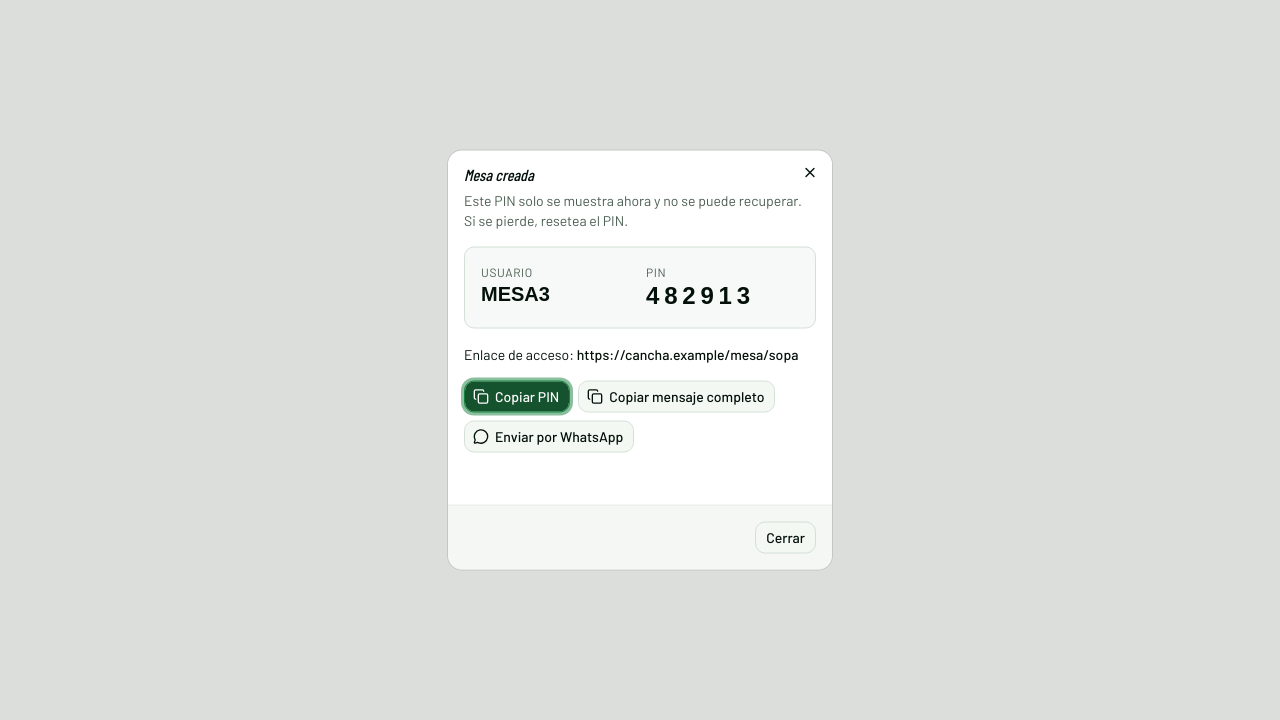
Test case: PinDialog › si no puede copiar, lo dice
The width and height of the screenshot is (1280, 720).
Step 1. Click the button "Copiar PIN" → point(517, 396), box [464,380,570,412]
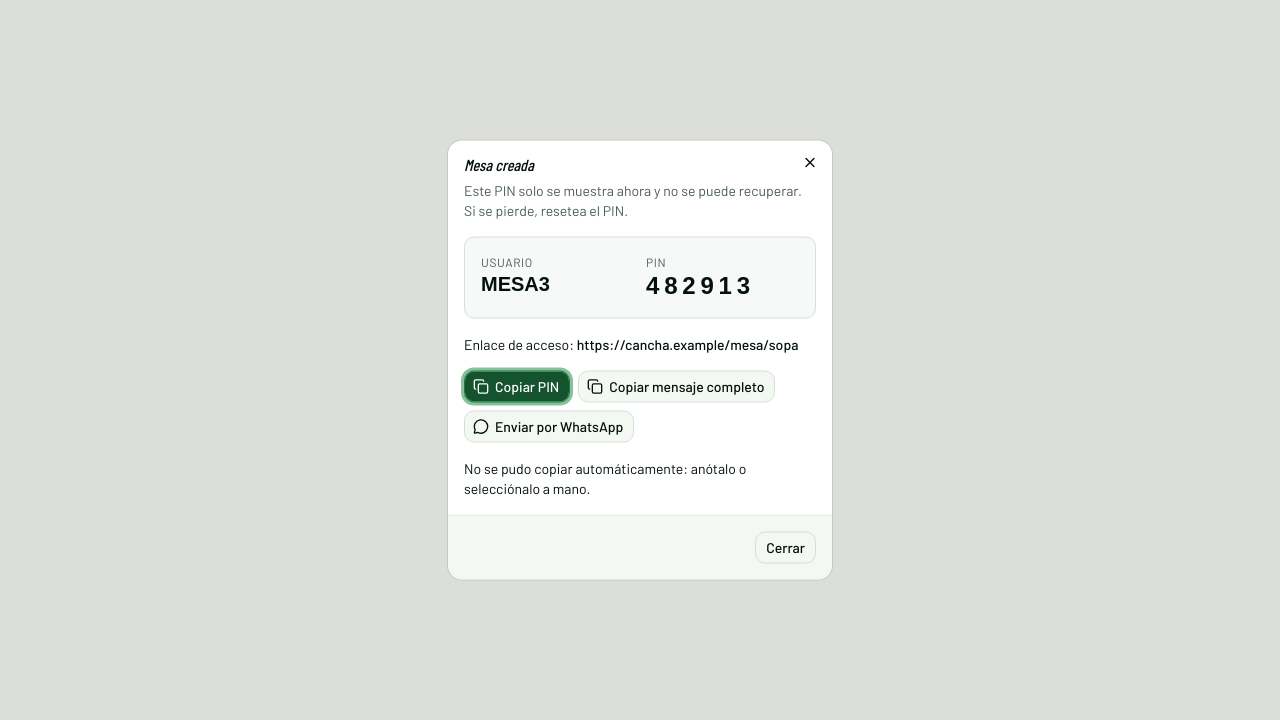
expect the text "No se pudo copiar automáticamente: anótalo o selecciónalo a mano." is shown: met, box [464,460,746,496]
